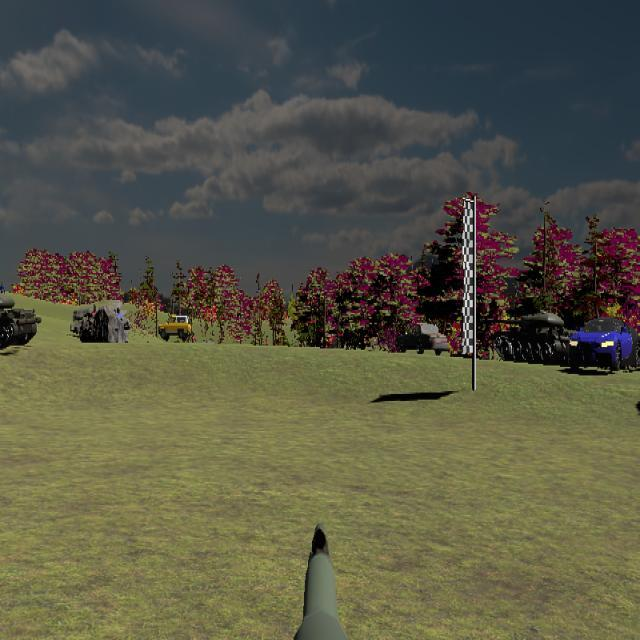Tank: (484, 310, 573, 365), (0, 290, 42, 350)
car: (568, 317, 639, 371), (395, 322, 449, 356), (159, 314, 193, 341)
